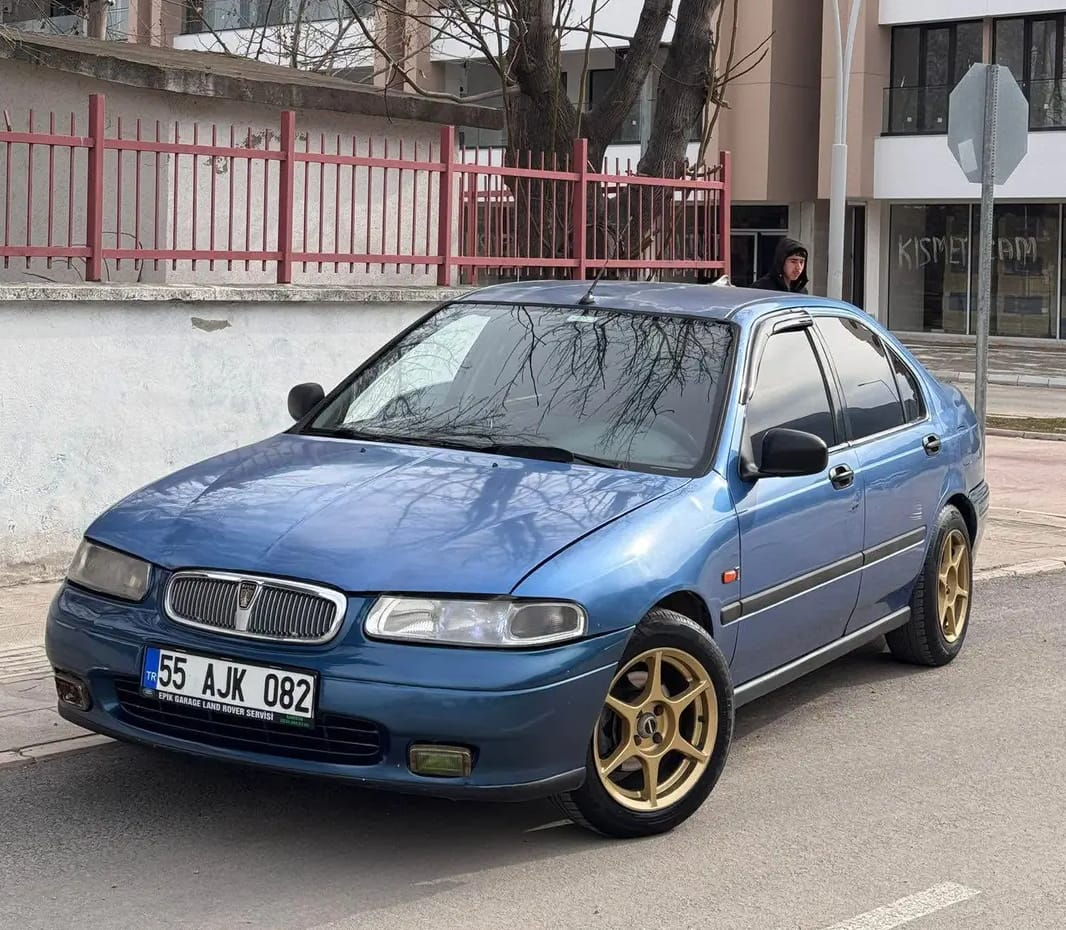plaka: (151, 640, 320, 722)
